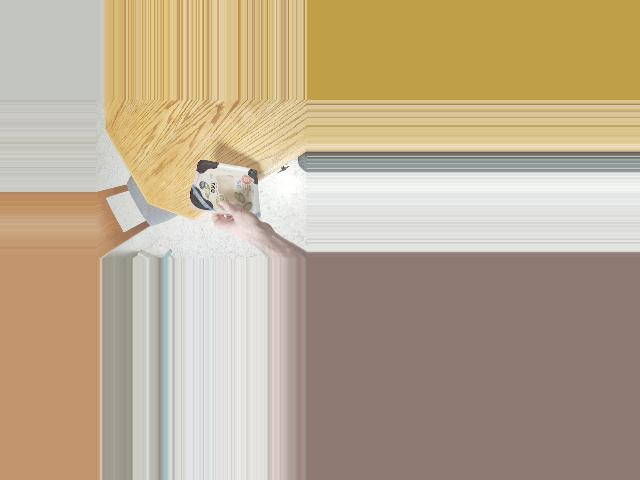cheese: (187, 162, 275, 215)
